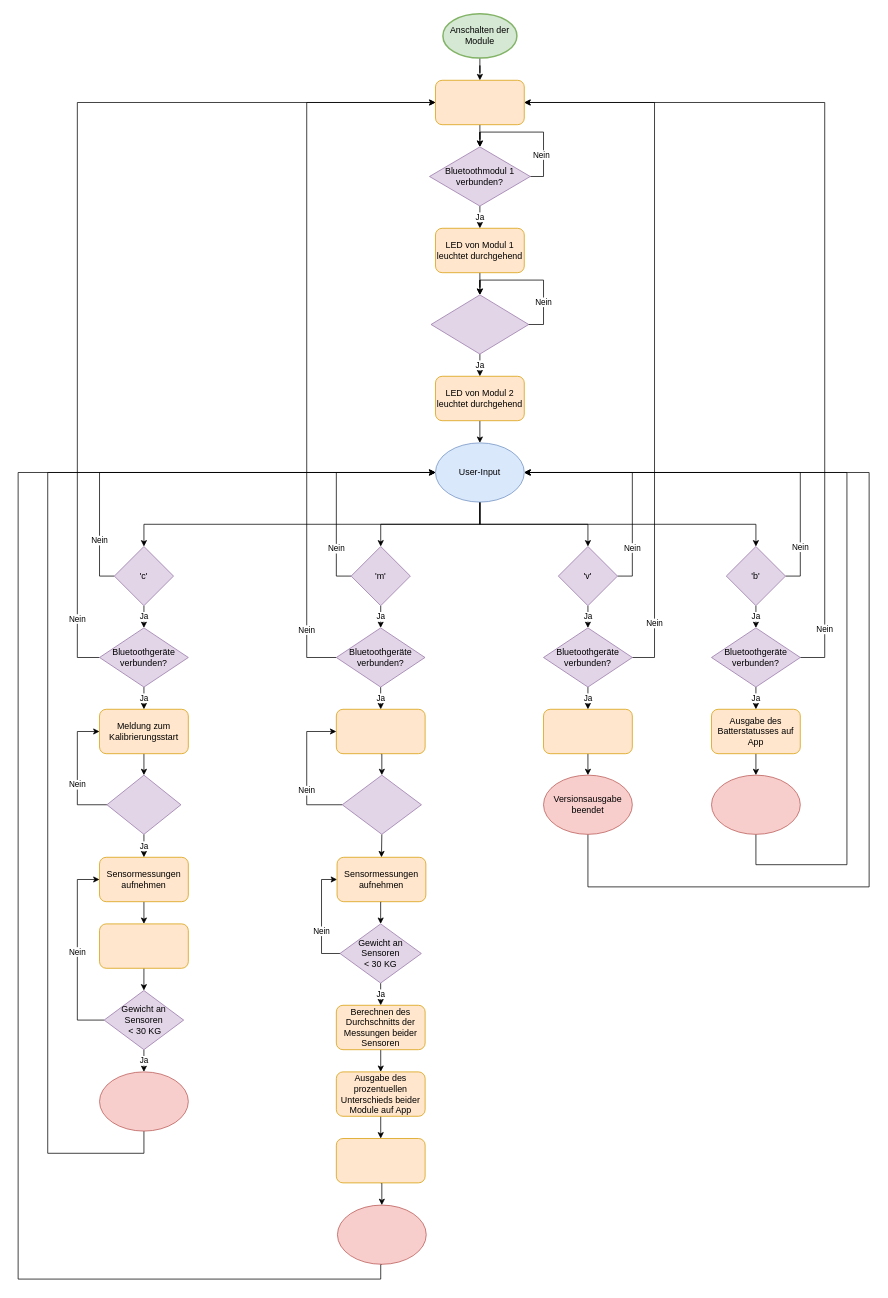
The diagram is 888 pixels wide and 1298 high, and some of its shapes have lost their labels. The centre of each missing label's shape, as x and y in pixels:
"Ausgabe der aktuellen Firmware-version auf App" belongs at (587,731).
"Ausgabe der Messwerte auf App" belongs at (143,945).
"Ausgabe des Messungsverlaufs als Diagram auf App" belongs at (380,1160).
"Batterstandausgabe beendet" belongs at (755,804).
"Bluetoothmodul 2 verbunden?" belongs at (479,324).
"Gewicht an Griffen > 30KG" belongs at (381,804).
"Gewicht an Sensor?" belongs at (143,804).
"Kalibrierung beendet" belongs at (143,1101).
"LEDs auf Modulen blinken" belongs at (479,102).
"Meldung zum Messungsstart" belongs at (380,731).
"Messung beendet" belongs at (381,1234).
